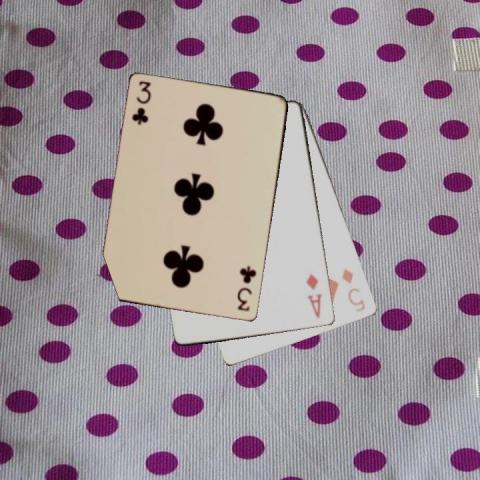3c: (234, 264, 258, 314), (129, 78, 153, 127)
5d: (340, 266, 368, 314)
Ad: (303, 271, 324, 320)
